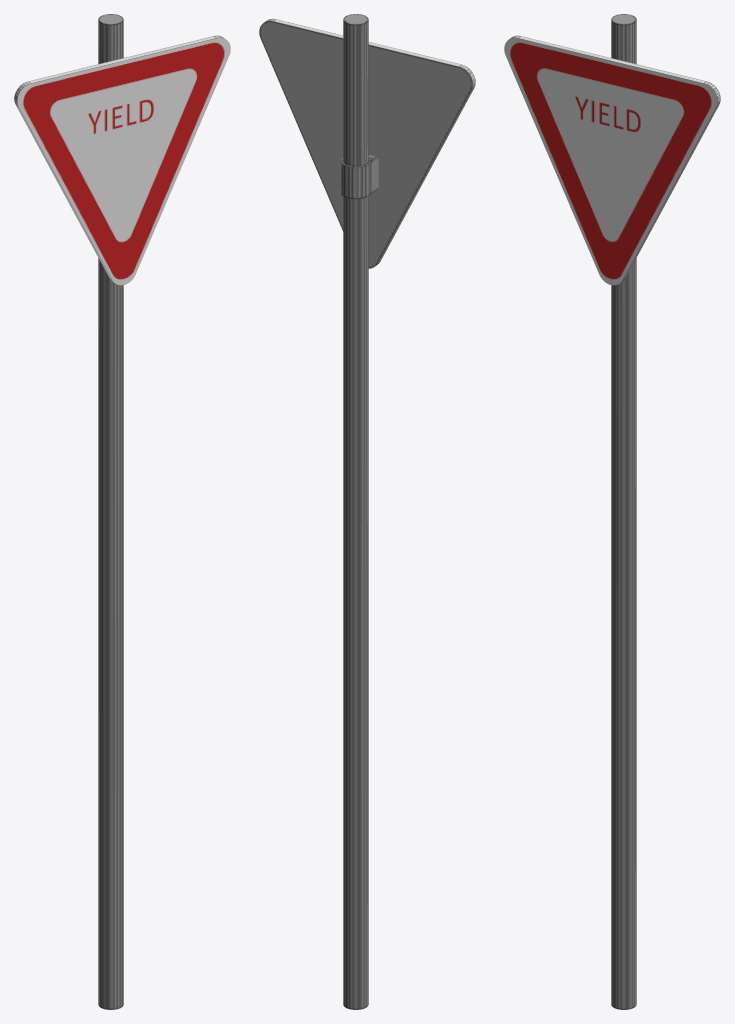
File: sign_3WTextures.fbx
The picture shows the model from 3 angles, left to right: view 1: azimuth 30°, elevation 25°; view 2: azimuth 150°, elevation 25°; view 3: azimuth 330°, elevation 25°; orthographic projection.
Parts seen in each view (by area): view 1: pCube5; view 2: pCube5; view 3: pCube5.
Boxes of the visible parts, x1,y1,x2,y2 form: pCube5: (14,14,230,1009); pCube5: (259,14,475,1009); pCube5: (504,14,720,1009).
Size of the model in its own units: 9.74 by 42.96 by 1.63.
Materials: 1 (1 with a texture image).
